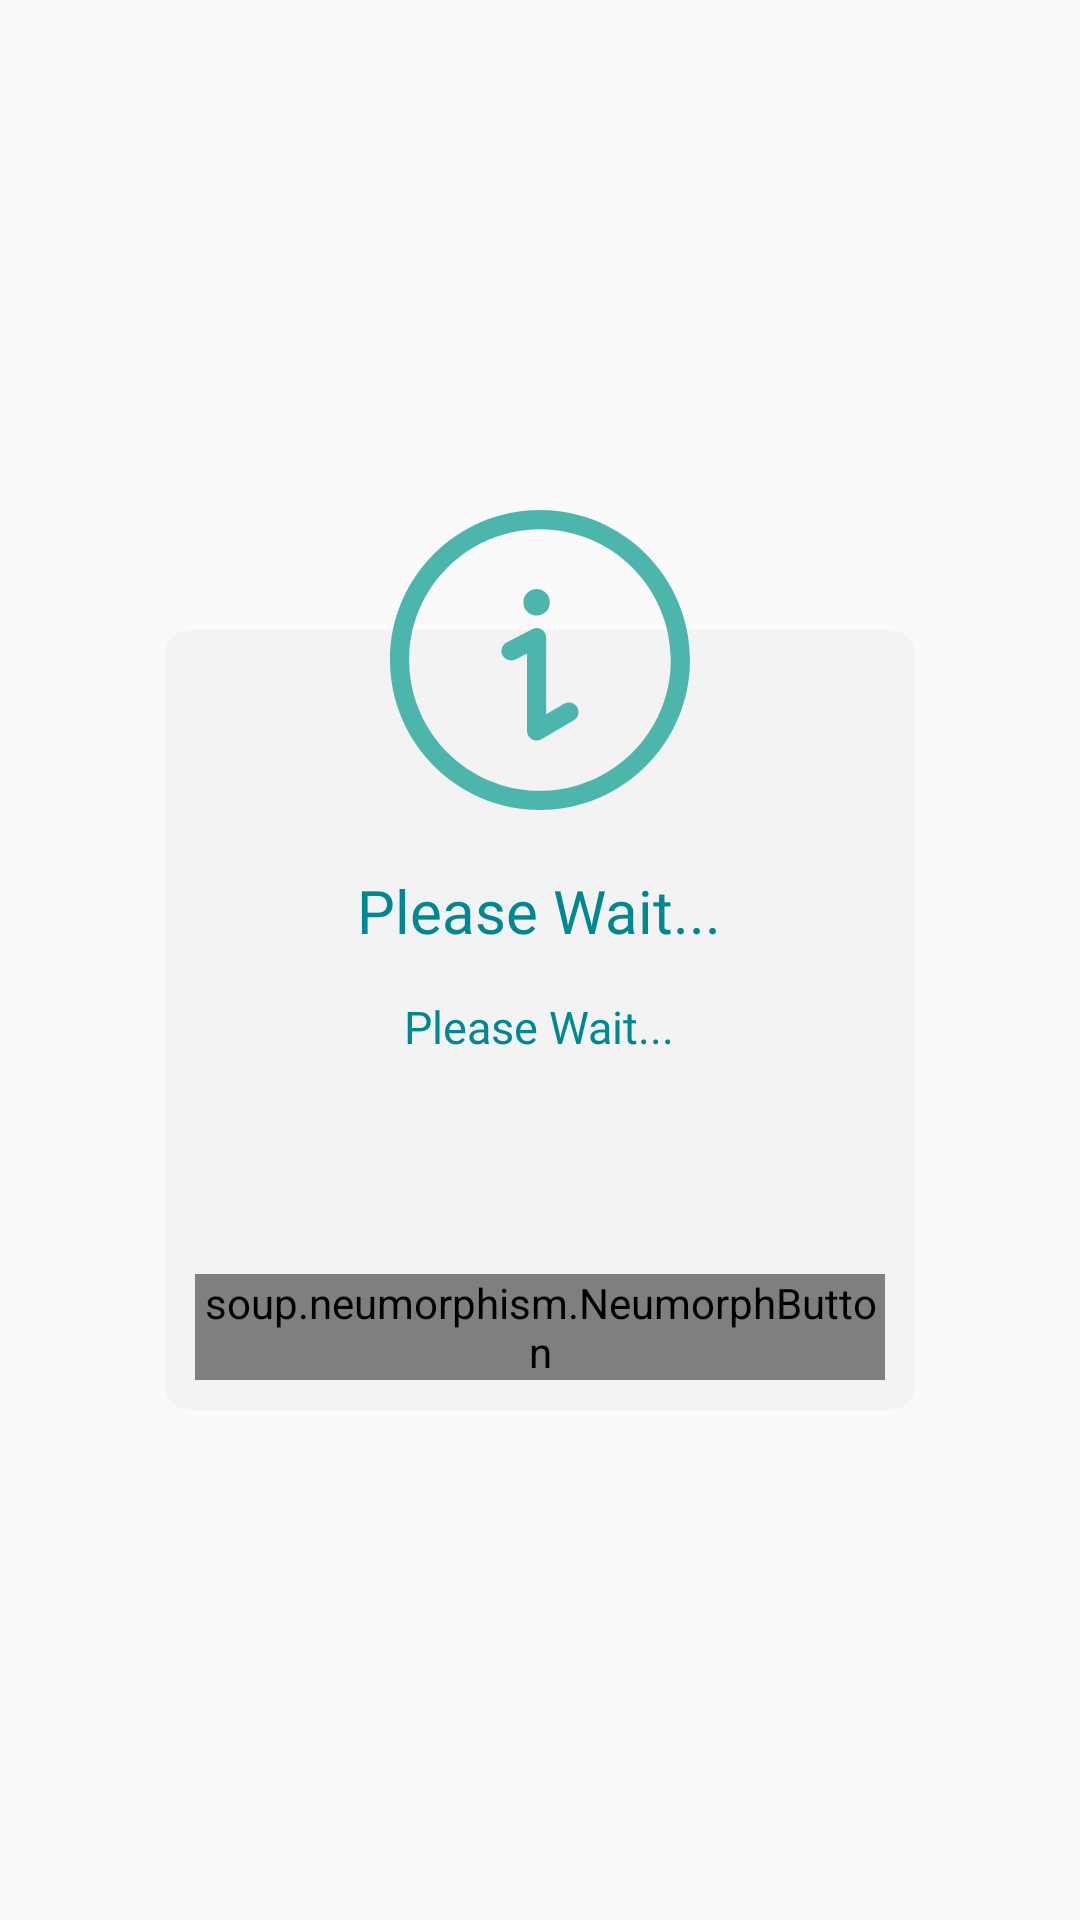

Icon bounding boxes for this 1080*1920 phone screenshot, format (x1, y1, x2, y2):
information settings: (390, 510, 690, 810)
